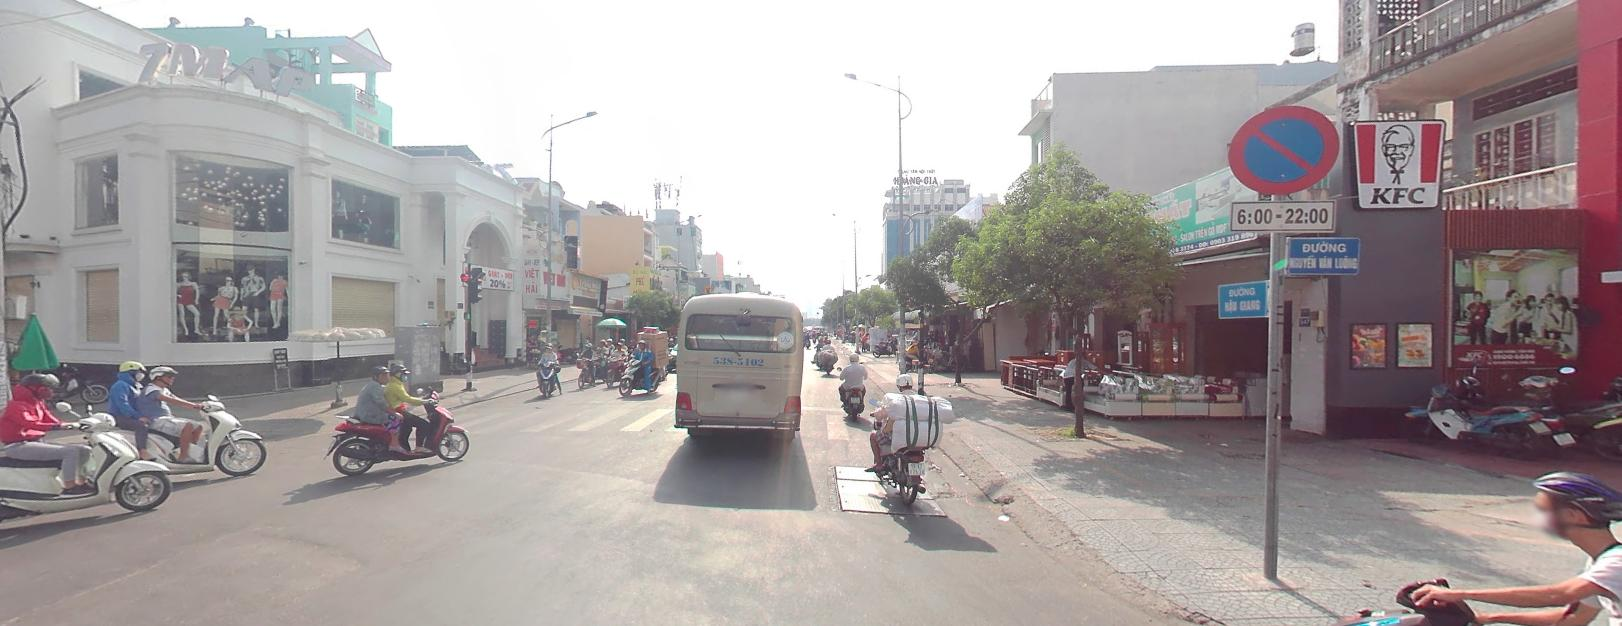Cam dung va do: (1227, 101, 1340, 193)
